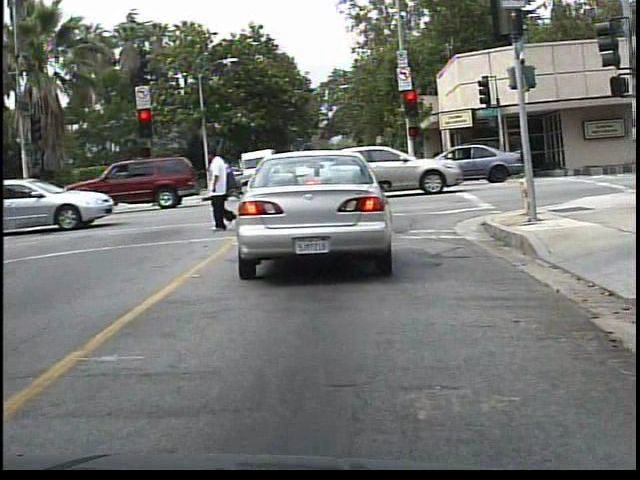person: (201, 146, 241, 235)
